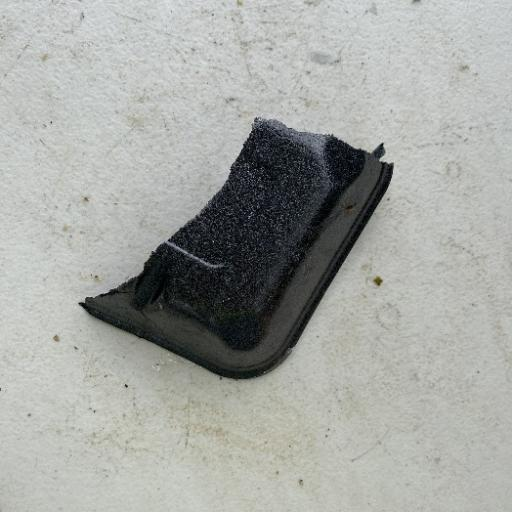Plastic: (77, 113, 396, 382)
